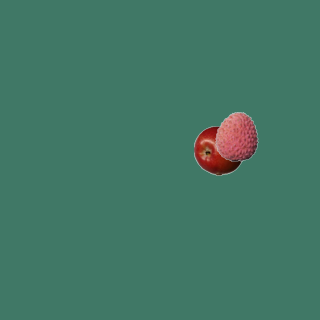Apple Braeburn: (193, 125, 243, 175)
Lychee: (211, 111, 261, 161)
